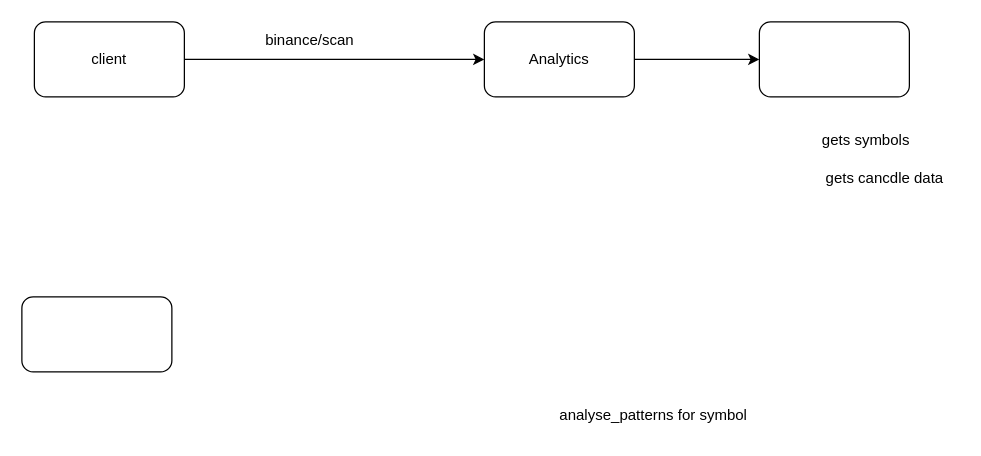
This 981x456 diagram has some shape labels left out. Each missing label, with the centre of its shape:
"Db" goes at point (96, 334).
"Exchanges" goes at point (833, 59).
